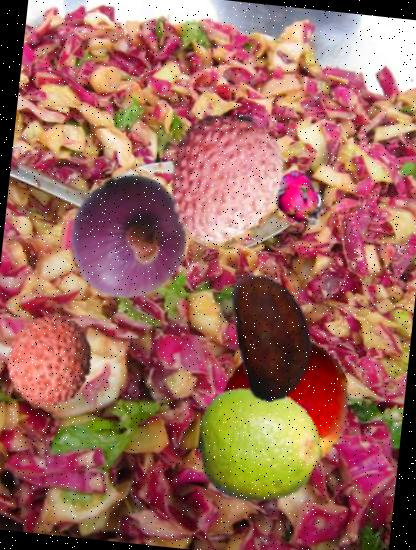Chestnut: (202, 264, 346, 408)
Limes: (193, 378, 328, 514)
Lychee: (152, 107, 300, 255), (0, 307, 103, 414)
Nectarine: (206, 330, 359, 482)
Onion: (61, 169, 198, 306)
Pitahaya: (266, 167, 333, 233)
